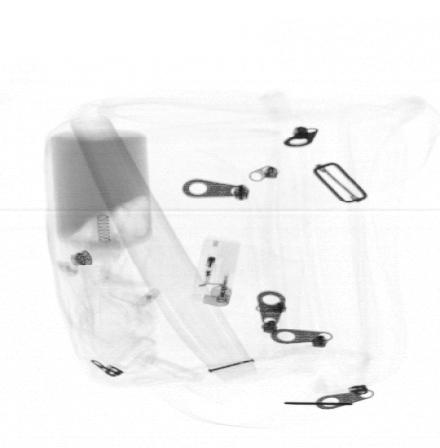Lighter: (190, 235, 243, 308)
